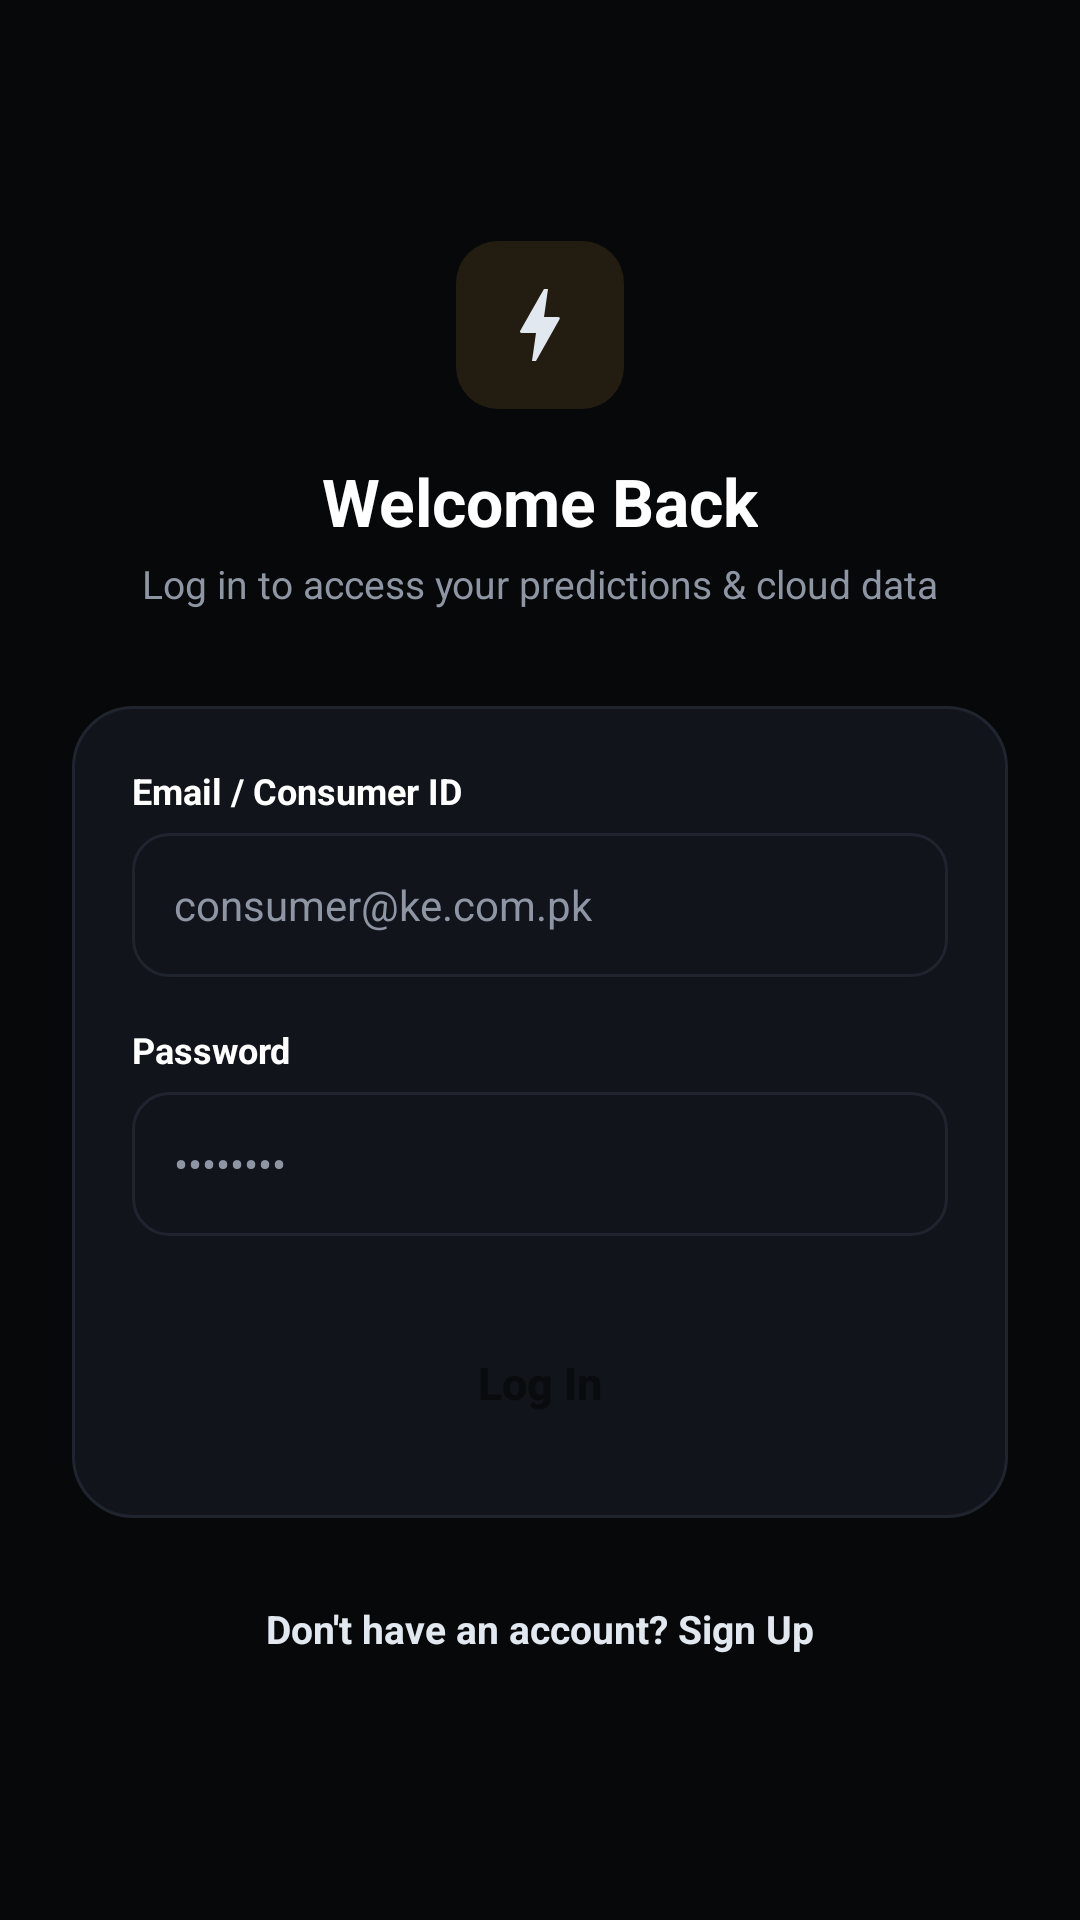

Locate icon controls on the screen. Image size 1080x1920, boxes as (x1, y1, x2, y2).
bolt: (456, 241, 624, 409)
